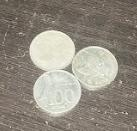coin_100_e1999: (28, 28, 77, 72), (33, 70, 81, 114), (73, 46, 119, 91)
